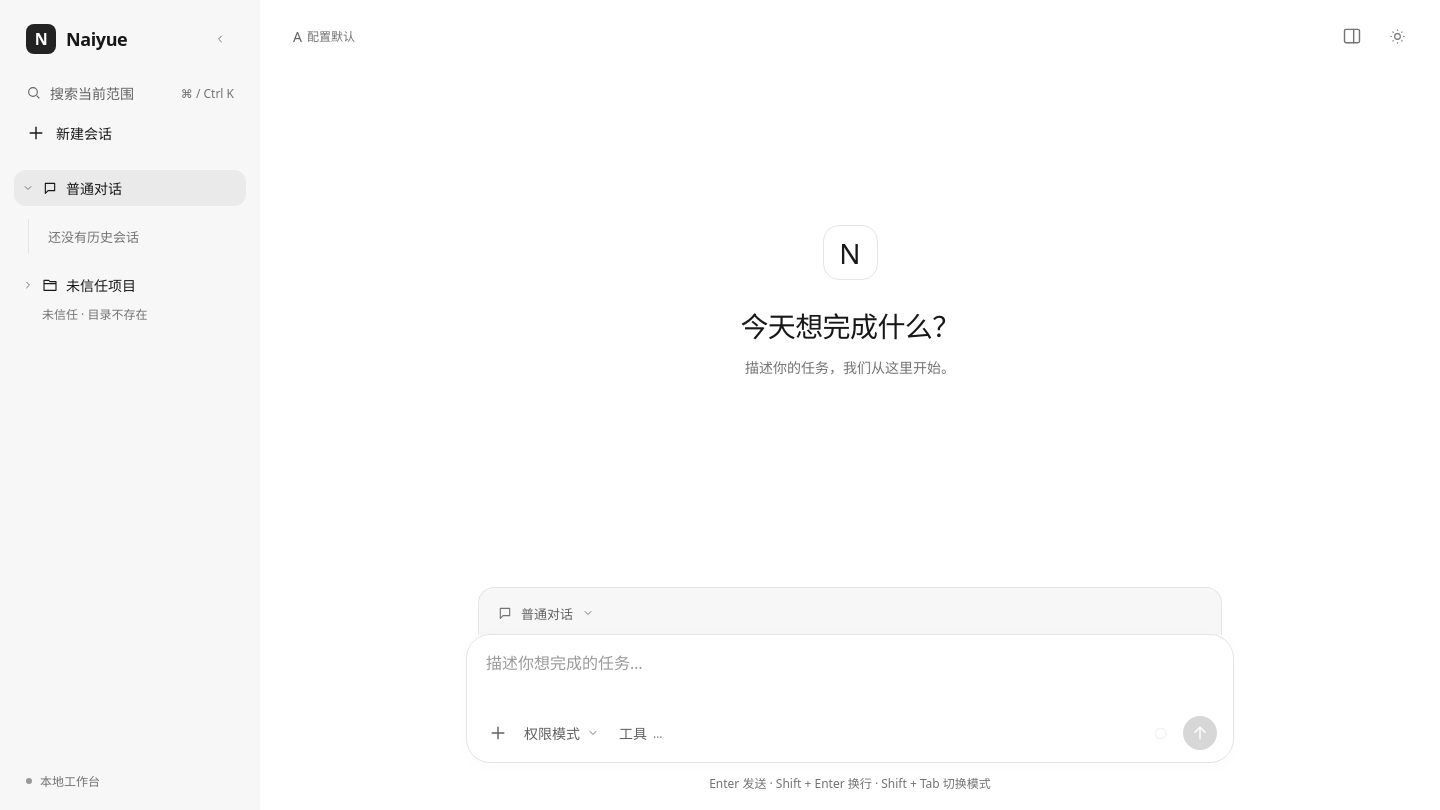
Test: shows empty, unavailable, untrusted and retryable errors without fabricating sessions
Expected: the text "未信任 · 目录不存在" is shown, [42,306,148,323]
Click the button named "展开未信任项目" at (28, 285), box [14,267,42,303]
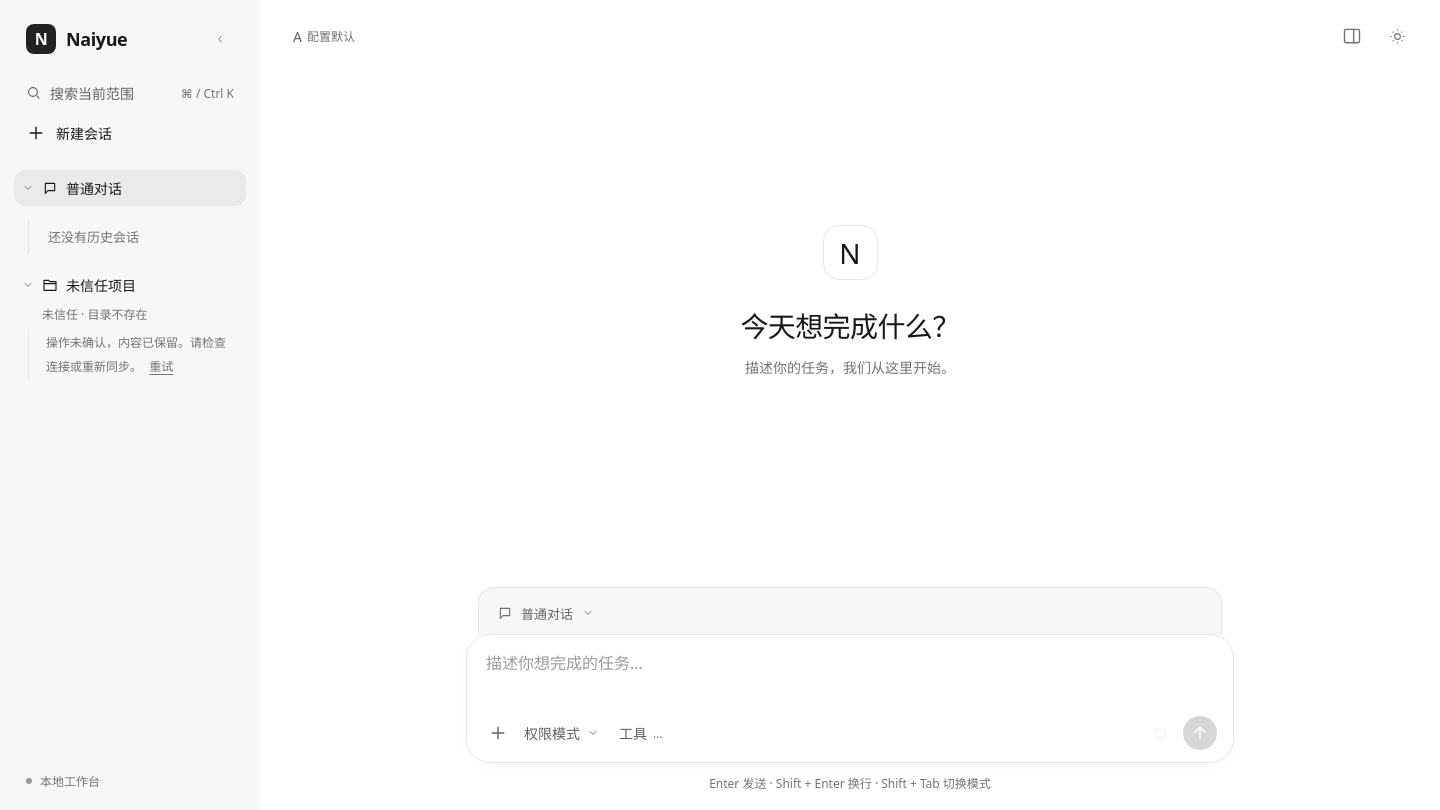
Expected: the button with aria-label "重试会话目录" is shown
Click the button with aria-label "重试会话目录" at (161, 366), box [145,353,177,380]
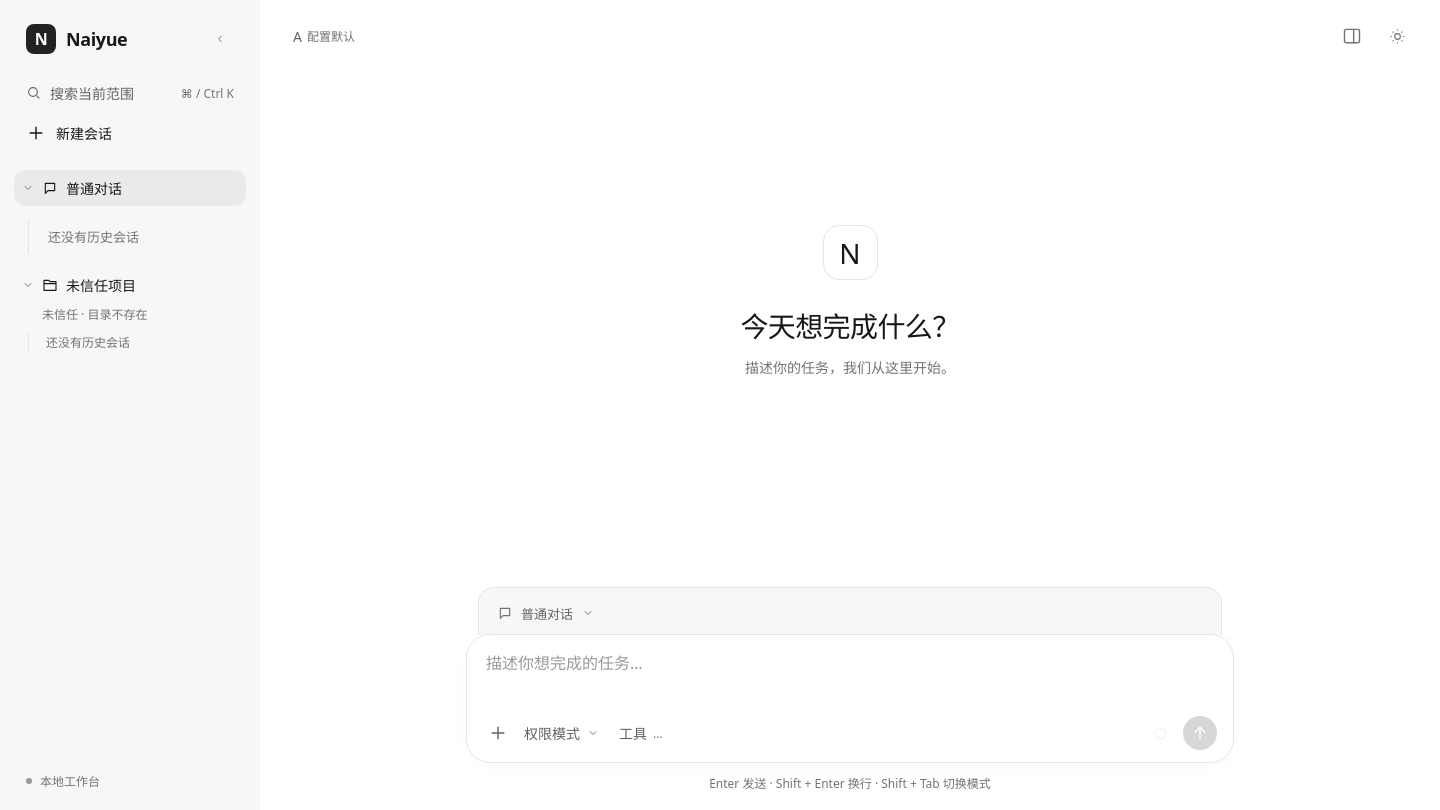
Expected: the text "还没有历史会话" below "未信任 · 目录不存在" is shown, [46,334,130,351]
